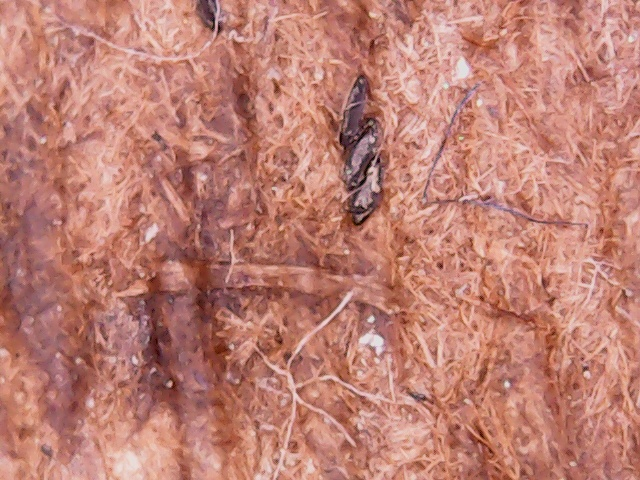full: (351, 154, 392, 228), (331, 66, 367, 142), (344, 118, 380, 186)
